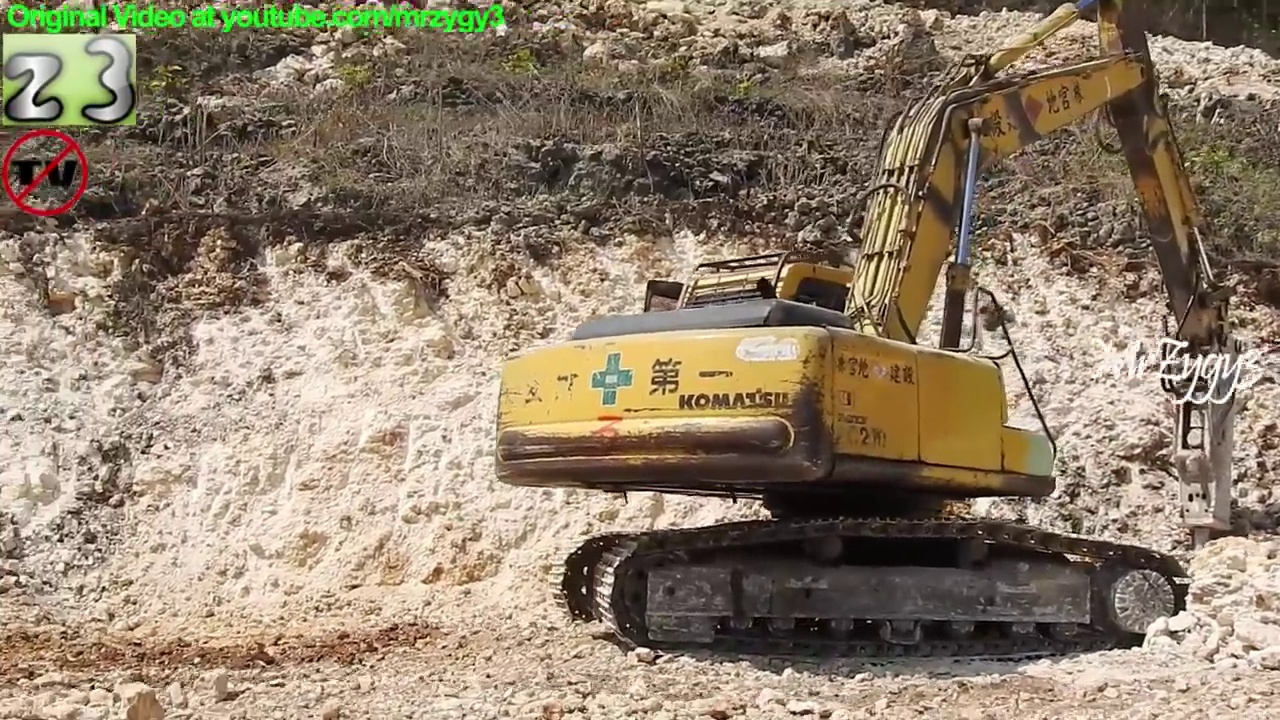excavator breaker: (481, 1, 1250, 682)
